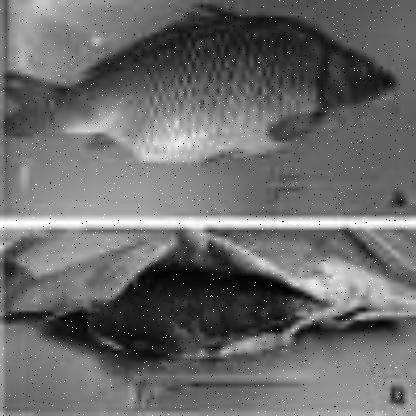ikan-mas: (0, 4, 400, 166)
